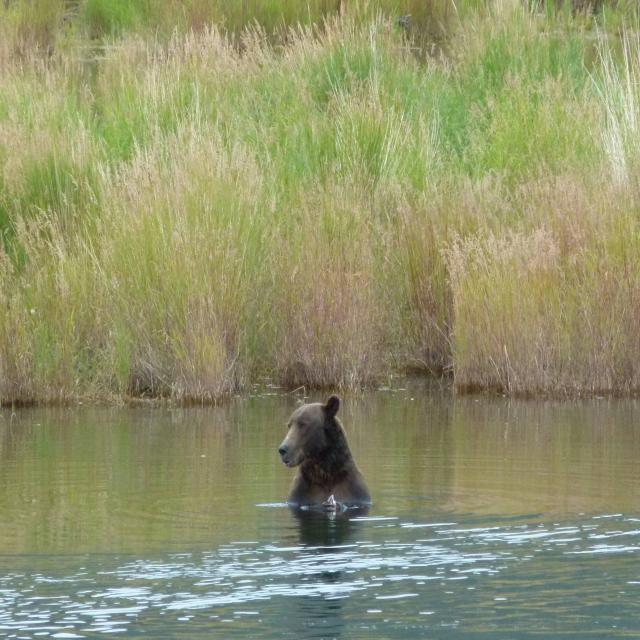bear face: (278, 398, 366, 503)
